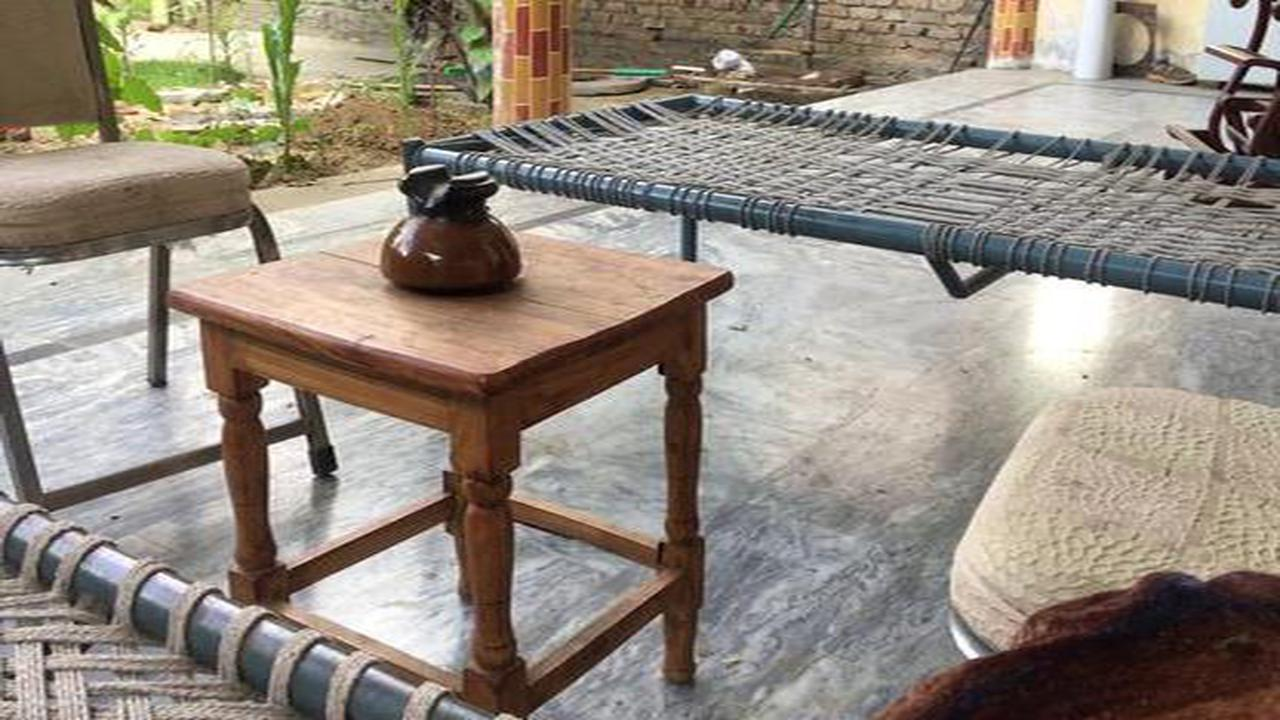insulator_pin: (370, 155, 536, 307)
